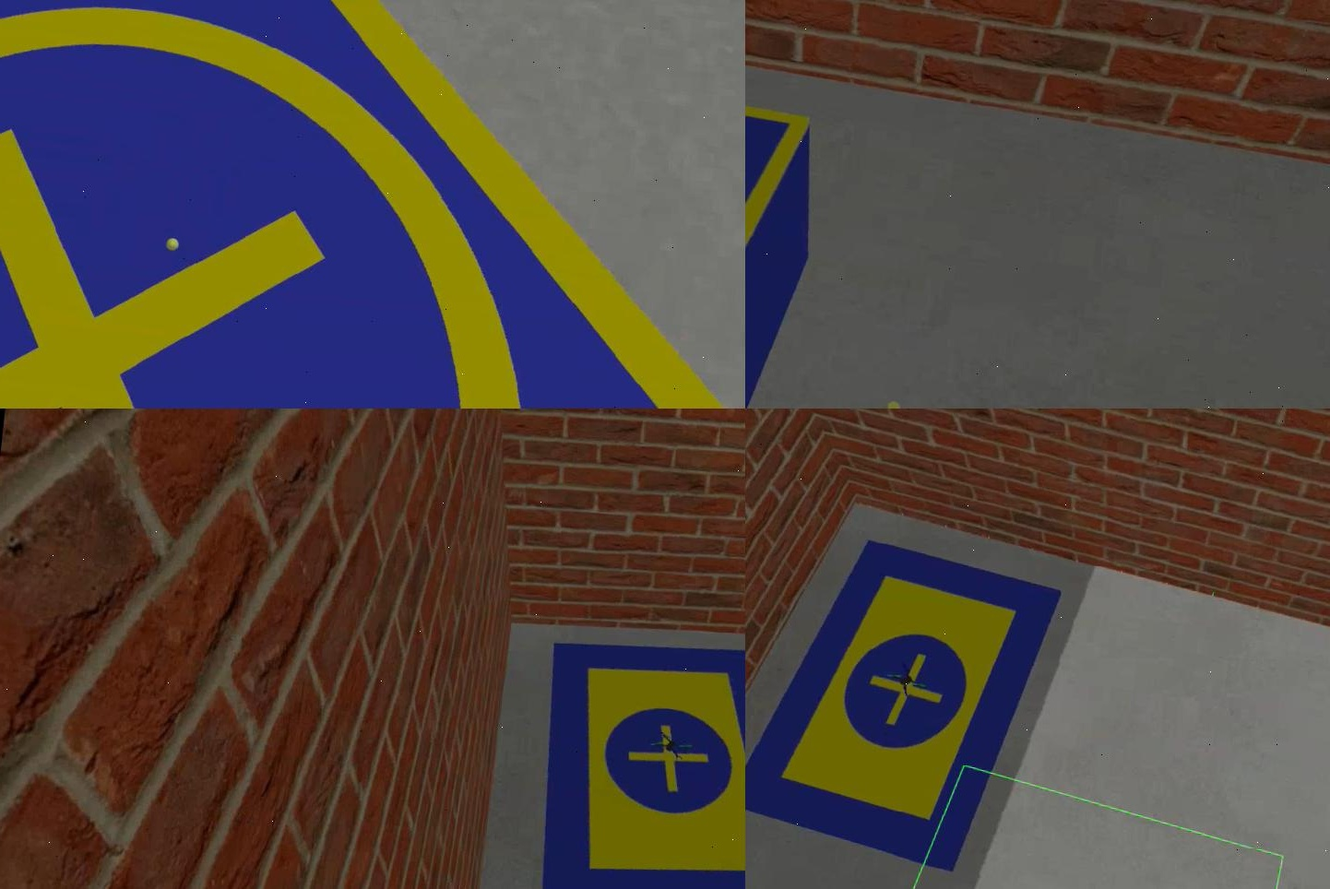large_base: (744, 527, 1068, 875), (526, 627, 744, 889)
small_base: (0, 1, 744, 409)
